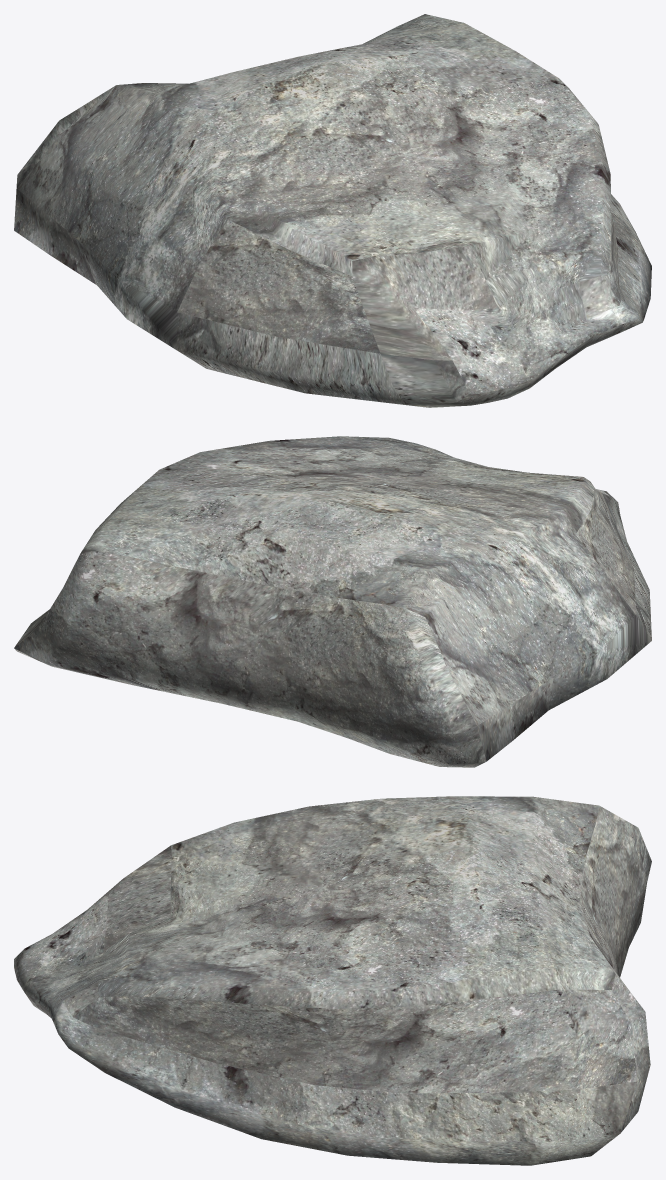
The model's file is rock.fbx.
The picture shows the model from 3 angles, top to bottom: view 1: azimuth 30°, elevation 25°; view 2: azimuth 150°, elevation 25°; view 3: azimuth 270°, elevation 25°; orthographic projection. The views are drawn at different scales.
Visible parts, largest first — view 1: rock; view 2: rock; view 3: rock.
Boxes of the visible parts, x1,y1,x2,y2 form: rock: (14, 14, 651, 407); rock: (14, 436, 651, 767); rock: (14, 796, 651, 1165).
Size of the model in its own units: 1.9 by 0.6852 by 2.
